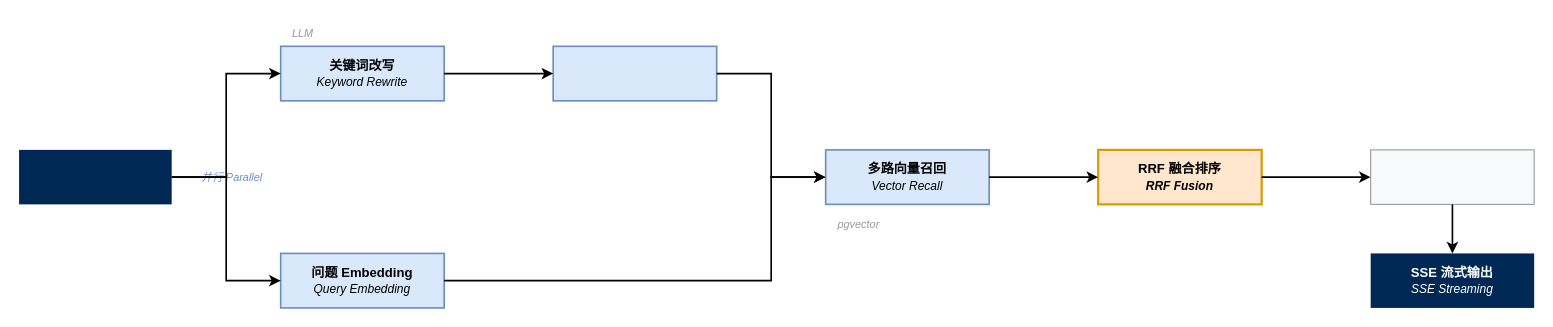
The diagram is 1553 pixels wide and 327 high, and some of its shapes have lost their labels. The centre of each missing label's shape, as x and y in pixels:
Rerank 重排序 Rerank (Optional): [1452,176]
多查询生成 Multi-Query Gen: [634,73]
用户提问 User Query: [95,176]
